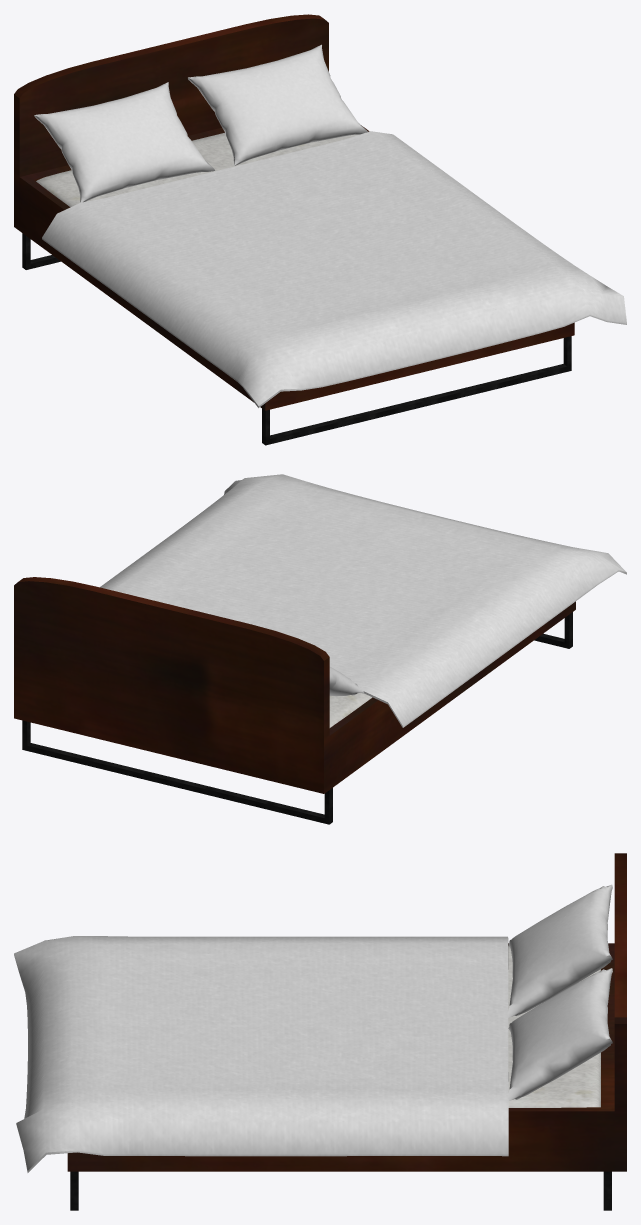
The model's file is bed.glb.
The picture shows the model from 3 angles, top to bottom: view 1: azimuth 30°, elevation 25°; view 2: azimuth 150°, elevation 25°; view 3: azimuth 270°, elevation 25°; orthographic projection. The views are drawn at different scales.
Visible parts, largest first — view 1: plaid, bed, pillow_1, pillow_2, matress; view 2: plaid, bed, matress, pillow_1; view 3: plaid, bed, pillow_2, pillow_1, matress.
Part boxes in pixels (x1,y1,x2,y2): plaid: (42,131,626,407); bed: (14,14,574,445); pillow_1: (34,82,214,202); pillow_2: (188,44,367,165); matress: (36,132,358,207); plaid: (100,474,626,727); bed: (14,577,575,824); matress: (329,693,372,727); pillow_1: (329,667,363,696); plaid: (14,936,508,1172); bed: (67,853,626,1210); pillow_2: (507,968,612,1100); pillow_1: (507,884,612,1017); matress: (508,946,600,1107).
Size of the model in its own units: 1.97 by 0.9 by 2.47.
1 material, 1 textured.
